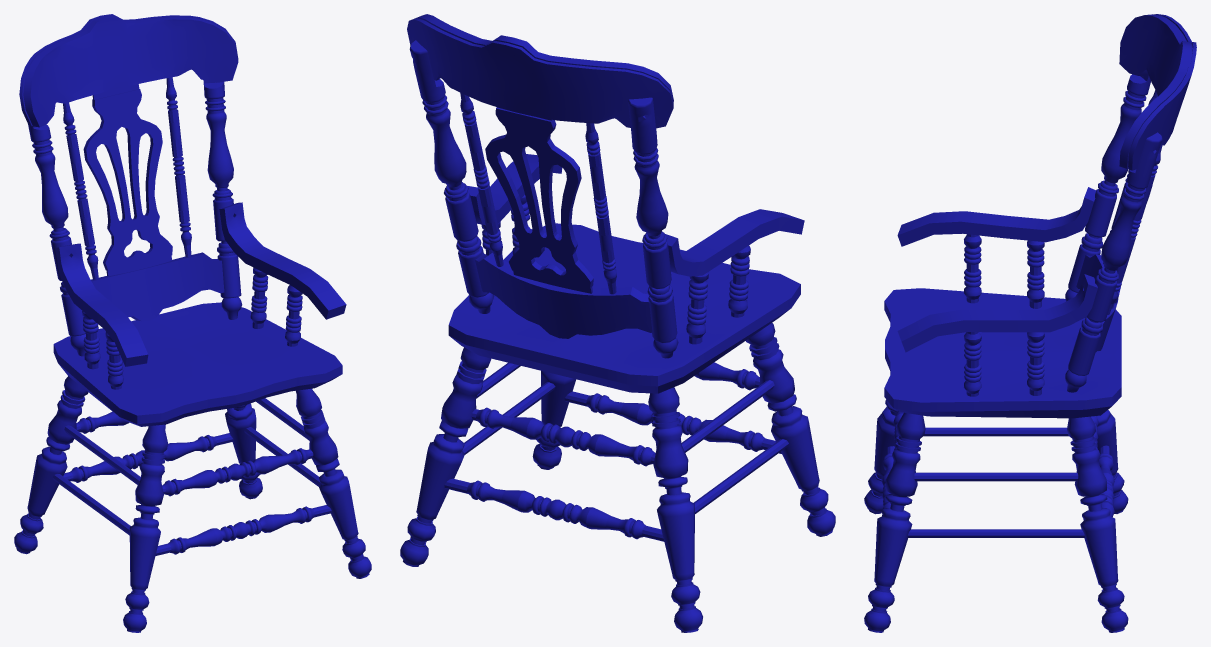
File: Chair.obj
The picture shows the model from 3 angles, left to right: view 1: azimuth 30°, elevation 25°; view 2: azimuth 150°, elevation 25°; view 3: azimuth 270°, elevation 25°; orthographic projection. The views are drawn at different scales.
Visible parts, largest first — view 1: Chair; view 2: Chair; view 3: Chair.
Boxes of the visible parts, x1,y1,x2,y2 form: Chair: (14, 14, 371, 632); Chair: (400, 14, 835, 632); Chair: (864, 14, 1196, 632).
Bounding box in the file's own units: 48.42 × 90.89 × 52.08.
